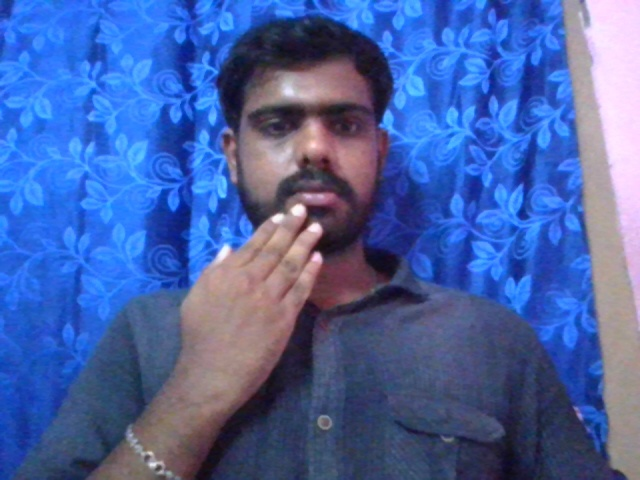Thanks: (175, 198, 327, 384)
